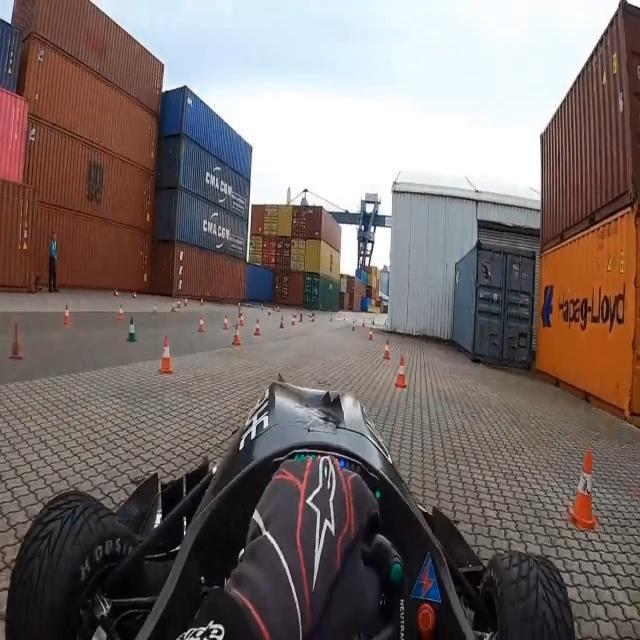Green cone: (119, 307, 141, 357), (254, 311, 267, 349), (274, 314, 290, 338)
Orange cone: (558, 430, 608, 536), (144, 280, 198, 320), (151, 327, 180, 388), (4, 312, 31, 374), (53, 284, 77, 340), (101, 276, 144, 306), (389, 349, 412, 401), (191, 301, 209, 340), (213, 308, 234, 340), (378, 335, 396, 371), (346, 308, 359, 344), (230, 322, 244, 348), (366, 319, 377, 348)
